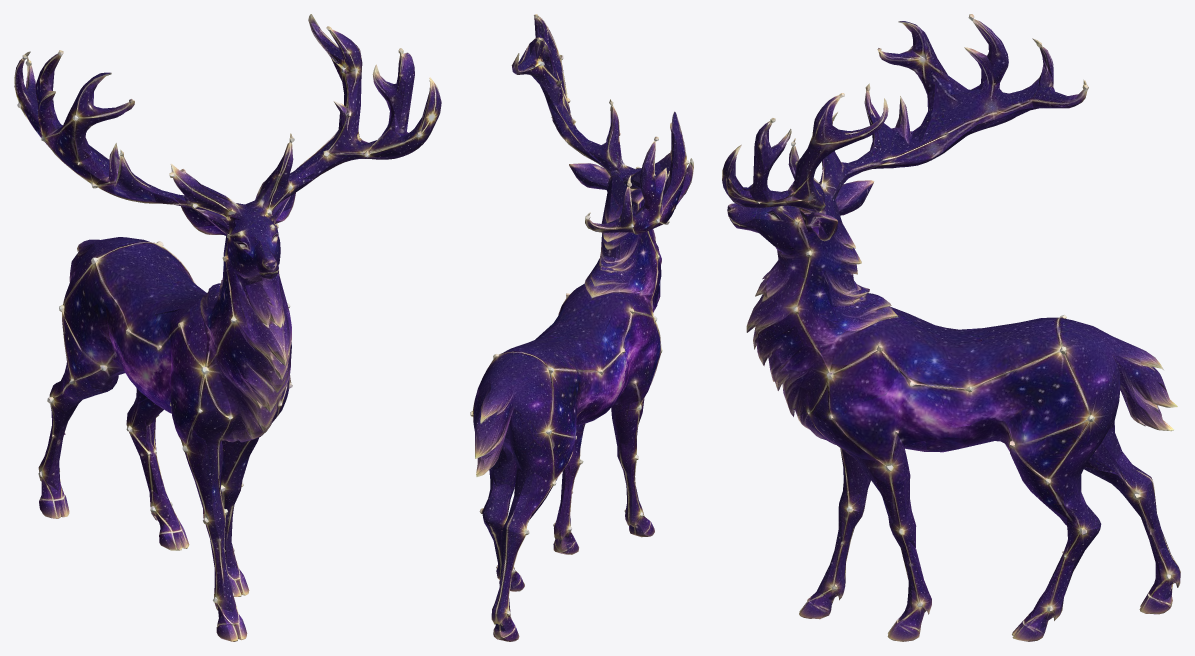
The model's file is deer.glb.
3 views of the same model, side by side, from view 1: azimuth 30°, elevation 25°; view 2: azimuth 150°, elevation 25°; view 3: azimuth 270°, elevation 25° (orthographic). The views are drawn at different scales.
Size of the model in its own units: 0.9583 by 1.9 by 1.37.
Materials: 1 (1 with a texture image).
